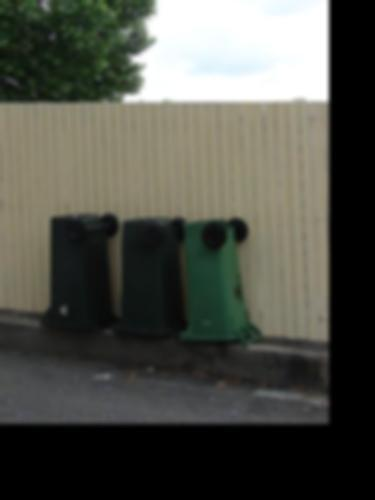Bote de Basura: (183, 220, 263, 345), (36, 211, 117, 333), (112, 216, 182, 337)
